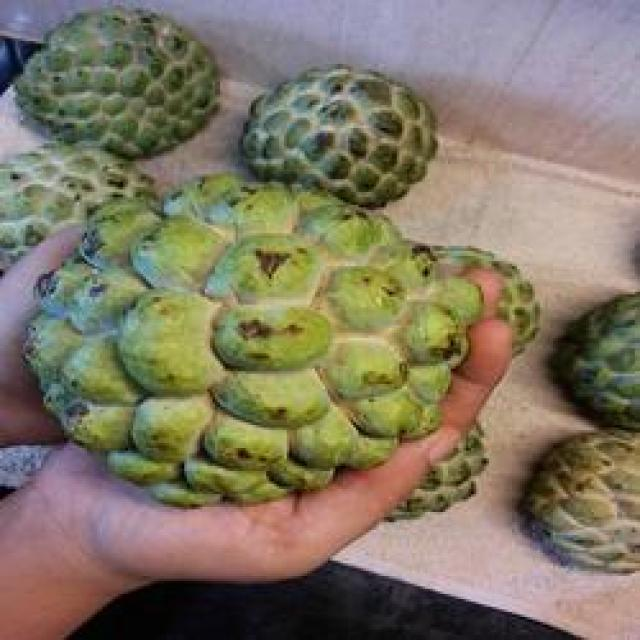apple: (28, 174, 448, 502), (238, 44, 458, 202), (18, 3, 220, 158)
